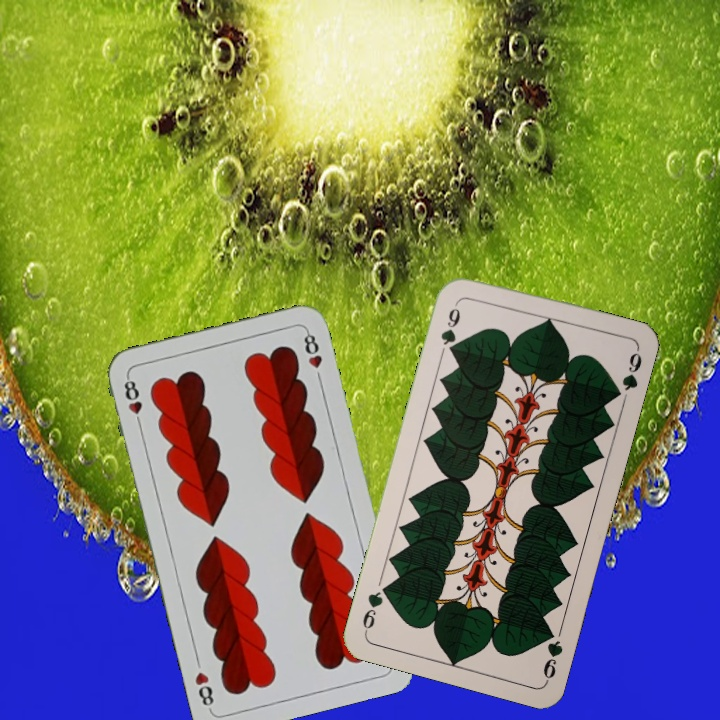G9: (539, 623, 566, 684), (436, 297, 463, 357)
H8: (120, 373, 145, 431)
